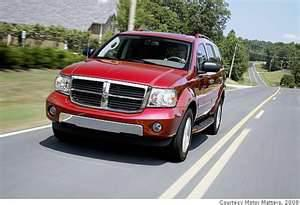Car: (37, 24, 234, 169)
